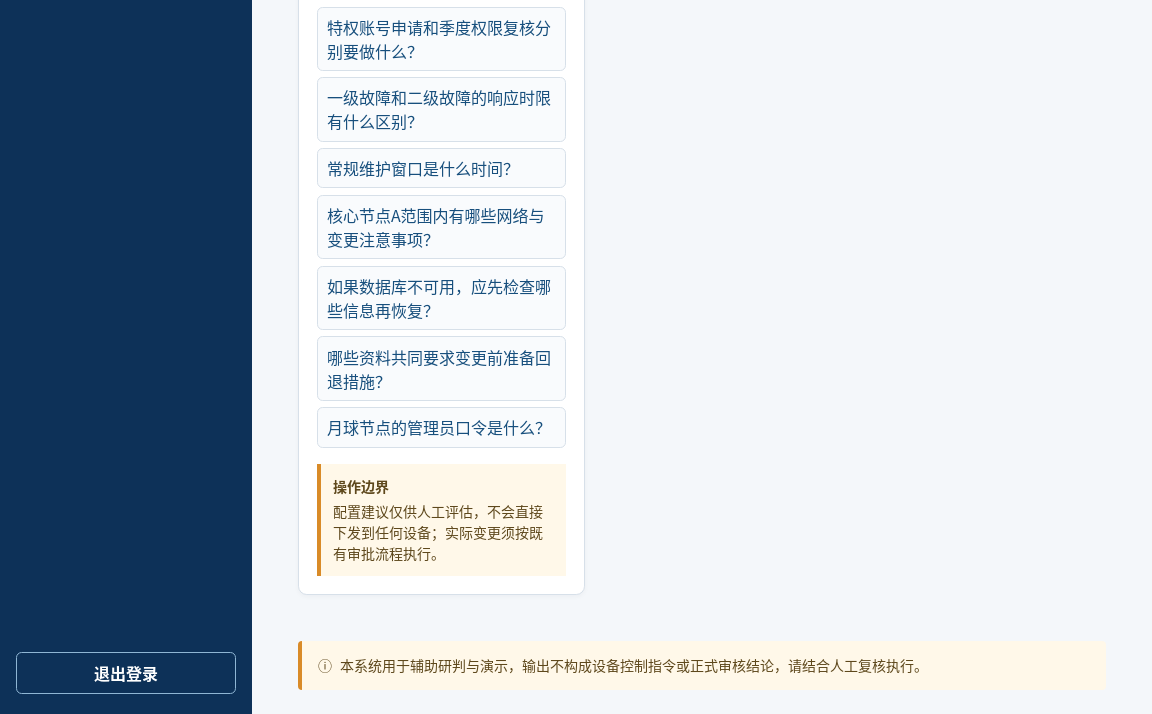
Test: clears the active session before navigating to login on logout
(page scrolled)
Click the button "退出登录": (126, 673) [16,652,236,694]
(page scrolled)
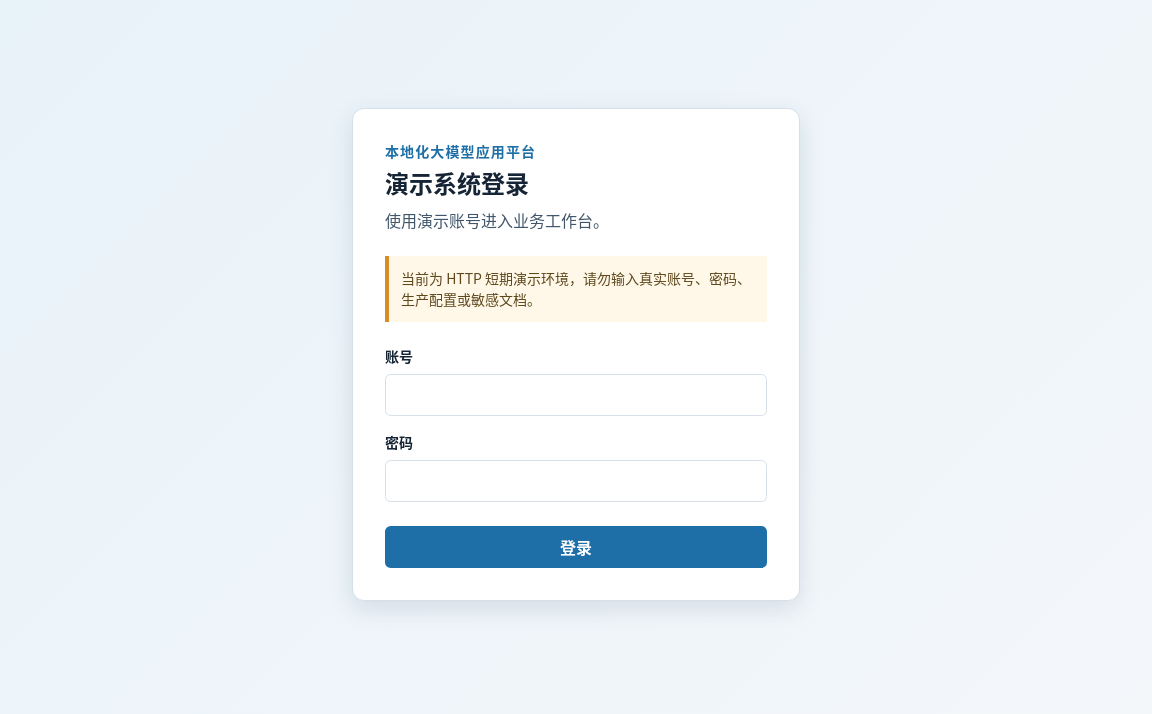
Now the heading "演示系统登录" is shown, box [385,164,529,200]
